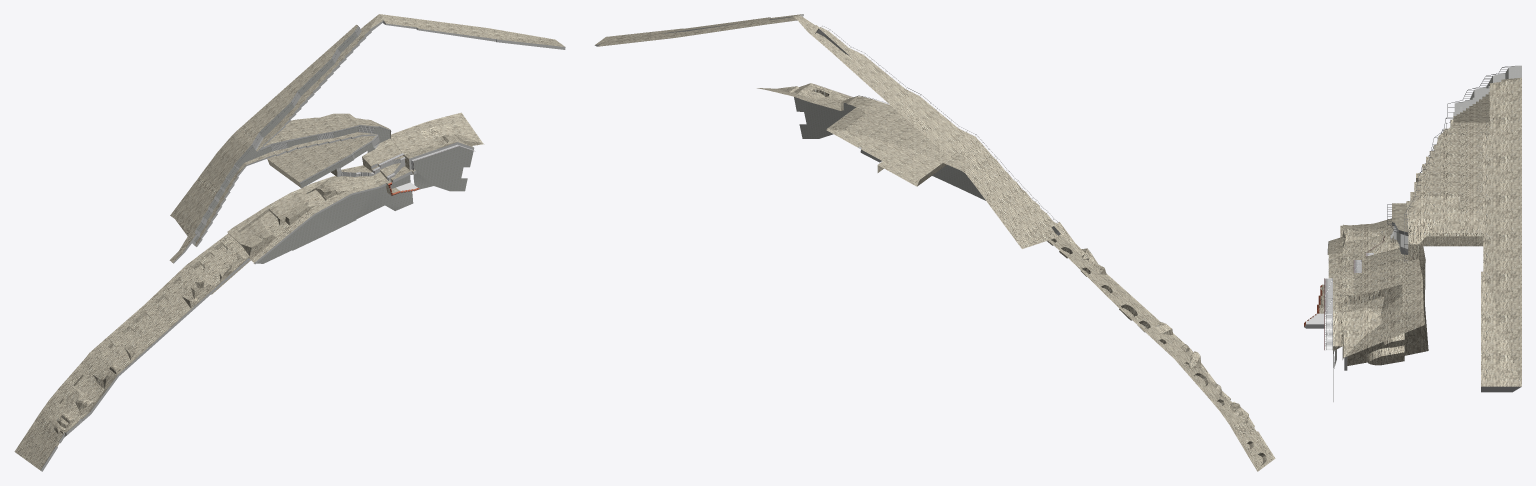
File: Toompeamyyr_b.obj
3 views of the same model, side by side, from view 1: azimuth 30°, elevation 25°; view 2: azimuth 150°, elevation 25°; view 3: azimuth 270°, elevation 25° (orthographic). The views are drawn at different scales.
Visible parts, largest first — view 1: Toompeamyyr_b; view 2: Toompeamyyr_b; view 3: Toompeamyyr_b.
Boxes of the visible parts, x1,y1,x2,y2 form: Toompeamyyr_b: (14,14,565,471); Toompeamyyr_b: (594,14,1275,471); Toompeamyyr_b: (1304,65,1521,401).
Size of the model in its own units: 198 by 112 by 33.14.
